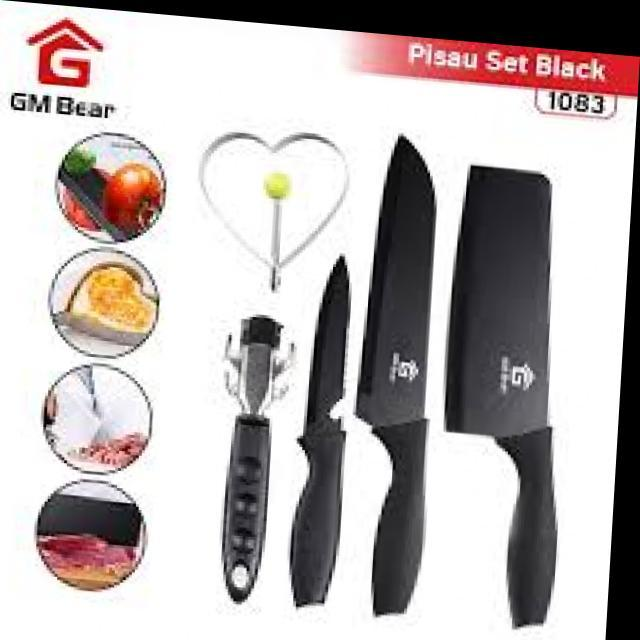knife: (445, 164, 560, 630), (356, 132, 439, 616), (289, 256, 350, 608)
